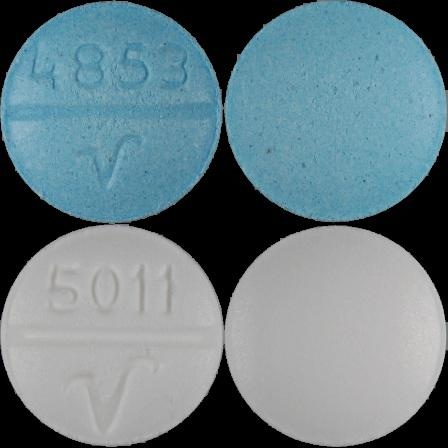55154-7225: (0, 0, 224, 224)
